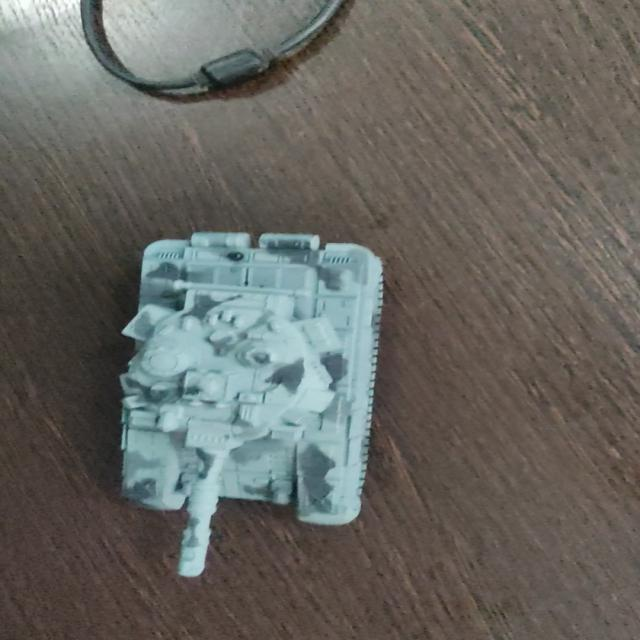tank: (119, 234, 389, 579)
